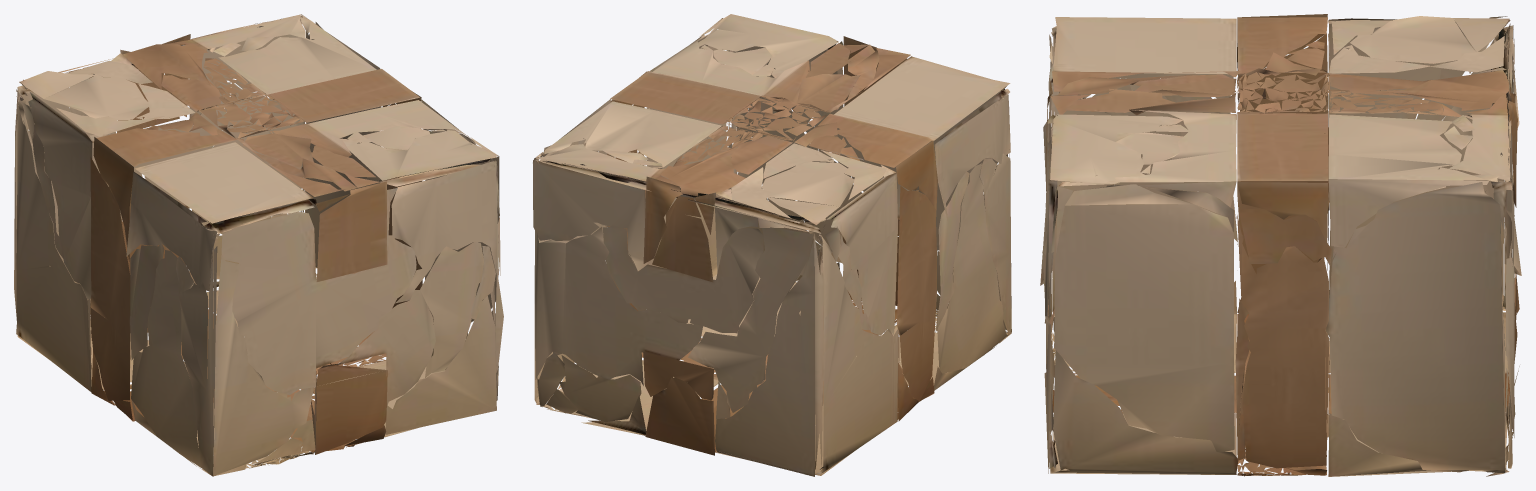
File: box_tape_lod2.glb
The picture shows the model from 3 angles, left to right: view 1: azimuth 30°, elevation 25°; view 2: azimuth 150°, elevation 25°; view 3: azimuth 270°, elevation 25°; orthographic projection. The views are drawn at different scales.
Parts seen in each view (by area): view 1: node_0; view 2: node_0; view 3: node_0.
Part boxes in pixels (x1,y1,x2,y2): node_0: (14, 14, 503, 476); node_0: (533, 14, 1011, 476); node_0: (1040, 14, 1521, 476).
Size of the model in its own units: 1.21 by 1.04 by 1.42.
Materials: 1 (1 with a texture image).
